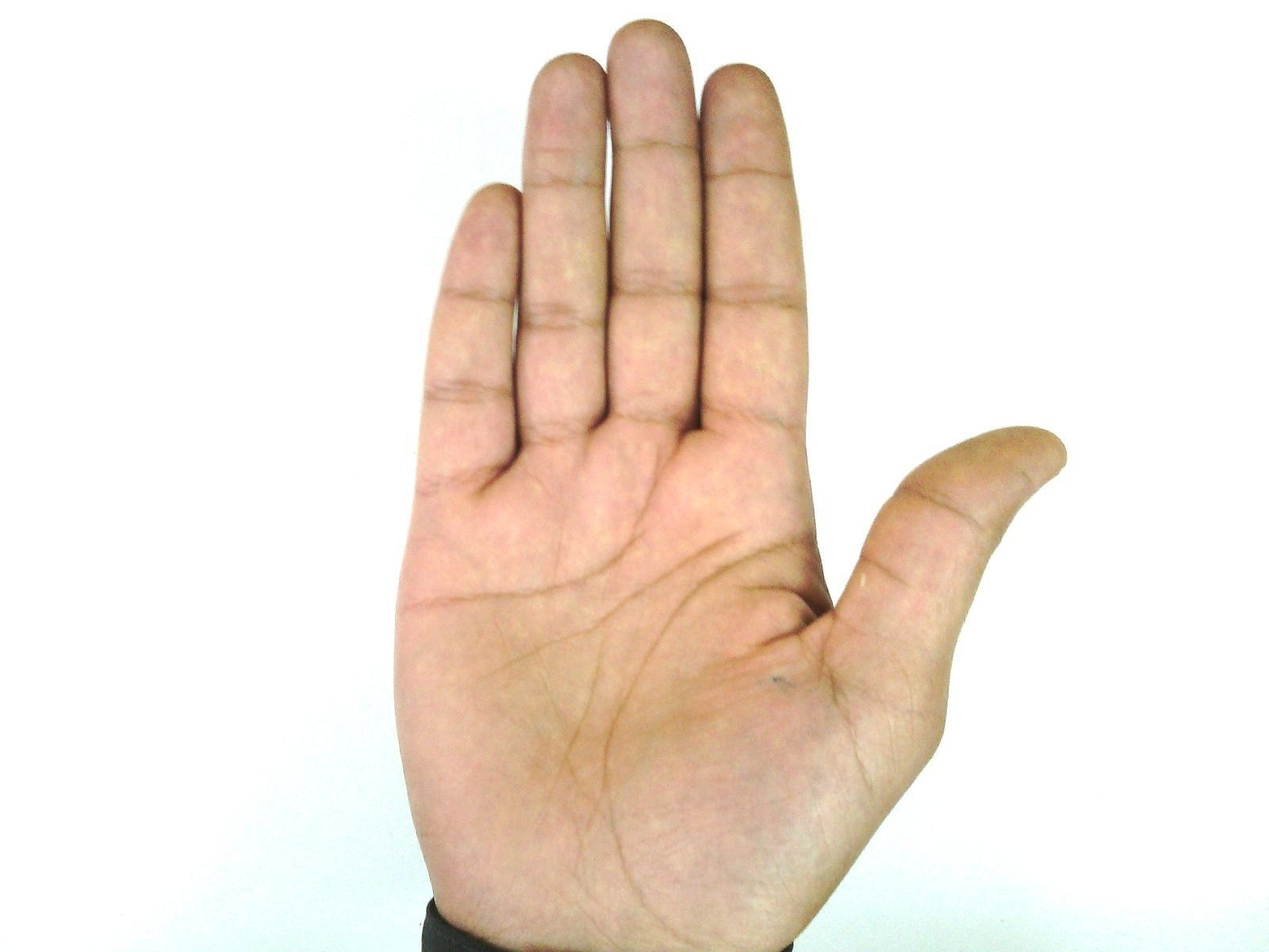open_palm: (389, 18, 1070, 950)
